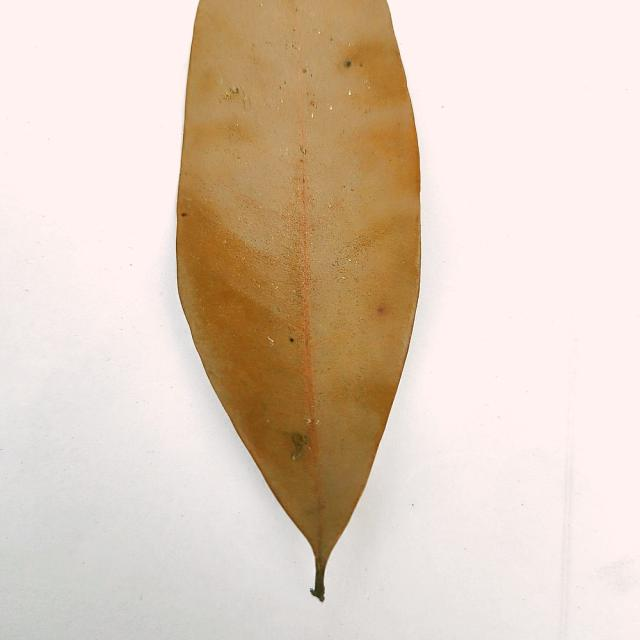Dry_Leaf-Lychee: (175, 0, 422, 601)
